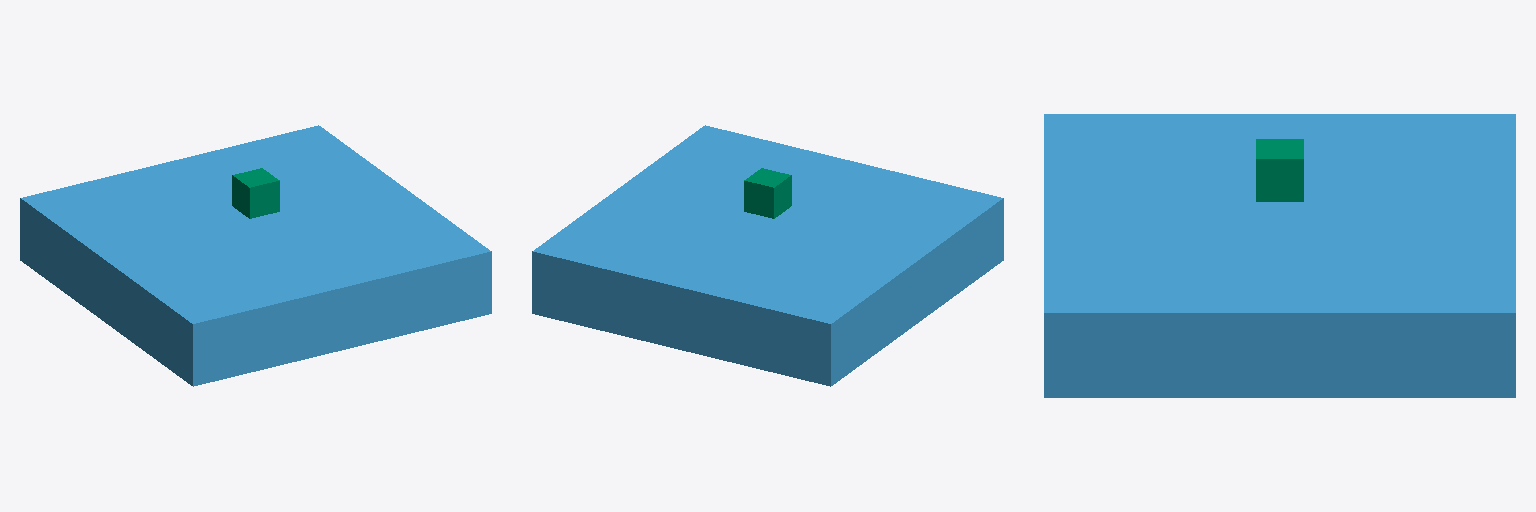
URDF robot description (mbot):
<?xml version="1.0" ?>
<!-- =================================================================================== -->
<!-- |    This document was autogenerated by xacro from mid360_IMU_platform.xacro      | -->
<!-- |    EDITING THIS FILE BY HAND IS NOT RECOMMENDED                                 | -->
<!-- =================================================================================== -->
<robot name="mbot">
  <!-- Base Footprint -->
  <link name="base_footprint"/>
  <joint name="footprint" type="fixed">
    <parent link="base_footprint"/>
    <child link="link_platform"/>
    <origin rpy="0 0 0" xyz="0 0 0.05"/>
  </joint>
  <link name="link_platform">
    <visual>
      <geometry>
        <box size="0.5 0.5 0.1"/>
      </geometry>
    </visual>
    <collision>
      <geometry>
        <box size="0.5 0.5 0.1"/>
      </geometry>
    </collision>
    <inertial>
      <origin xyz="0 0 0"/>
      <mass value="0.01"/>
      <inertia ixx="0.001" ixy="0.0" ixz="0.0" iyy="0.001" iyz="0.0" izz="0.001"/>
    </inertial>
  </link>
  <joint name="lidar_platform" type="fixed">
    <parent link="link_platform"/>
    <child link="lidar_link"/>
    <origin rpy="0 0 0" xyz="0 0 0.1"/>
  </joint>
  <link name="lidar_link">
    <pose>0.0 0.0 0.05 0.0 0.0 0.0</pose>
    <inertial>
      <mass value="0.1"/>
      <inertia ixx="0.01" ixy="0" ixz="0" iyy="0.01" iyz="0" izz="0.01"/>
    </inertial>
    <collision name="lidar_collision">
      <geometry>
        <box size="0.05 0.05 0.05"/>
      </geometry>
    </collision>
    <visual name="lidar_visual">
      <geometry>
        <box size="0.05 0.05 0.05"/>
      </geometry>
    </visual>
  </link>
  <link name="livox">
    <inertial>
      <mass value="0.1"/>
      <inertia ixx="0.01" ixy="0" ixz="0" iyy="0.01" iyz="0" izz="0.01"/>
    </inertial>
  </link>
  <joint name="lidar_link_to" type="fixed">
    <parent link="lidar_link"/>
    <child link="livox"/>
    <origin rpy="0 0 0" xyz="0.0 0.0 0.2"/>
  </joint>
  <gazebo reference="laser_livox">
    <sensor name="laser_livox" type="ray">
      <pose>0 0 0.05 0 0 0</pose>
      <visualize>true</visualize>
      <always_on>True</always_on>
      <update_rate>10</update_rate>
      <plugin filename="liblivox_laser_simulation.so" name="gazebo_ros_laser_controller">
        <ray>
          <scan>
            <horizontal>
              <samples>100</samples>
              <resolution>1</resolution>
              <min_angle>-3.14159</min_angle>
              <max_angle>3.14159</max_angle>
            </horizontal>
            <vertical>
              <samples>50</samples>
              <resolution>1</resolution>
              <min_angle>-3.14159</min_angle>
              <max_angle>3.14159</max_angle>
            </vertical>
          </scan>
          <range>
            <min>0.1</min>
            <max>30.0</max>
            <resolution>1</resolution>
          </range>
          <noise>
            <type>gaussian</type>
            <mean>0.0</mean>
            <stddev>0.0</stddev>
          </noise>
        </ray>
        <visualize>True</visualize>
        <samples>20000</samples>
        <downsample>1</downsample>
        <csv_file_name>mid360-real-centr.csv</csv_file_name>
        <publish_pointcloud_type>0</publish_pointcloud_type>
        <ros_topic>/livox/lidar</ros_topic>
        <!-- <frameName>base_link</frameName> -->
      </plugin>
    </sensor>
  </gazebo>
</robot>

--- Render facts (derived) ---
3 views of the same robot in one strip: view 1: azimuth 30°, elevation 25°; view 2: azimuth 150°, elevation 25°; view 3: azimuth 270°, elevation 25° (orthographic).
Robot: mbot — 4 links, 3 joints (3 fixed); root link base_footprint; default pose: all joints at 0.
Links seen in each view (by area): view 1: link_platform, lidar_link; view 2: link_platform, lidar_link; view 3: link_platform, lidar_link.
Boxes of the visible links, x1,y1,x2,y2 form: link_platform: (20,125,491,386); lidar_link: (232,168,279,218); link_platform: (532,125,1003,386); lidar_link: (744,168,791,218); link_platform: (1044,114,1515,397); lidar_link: (1256,139,1303,201).
Size in the robot's own frame: 0.5 by 0.5 by 0.175 metres.
Geometry: primitives only (box / cylinder / sphere), no mesh files.
